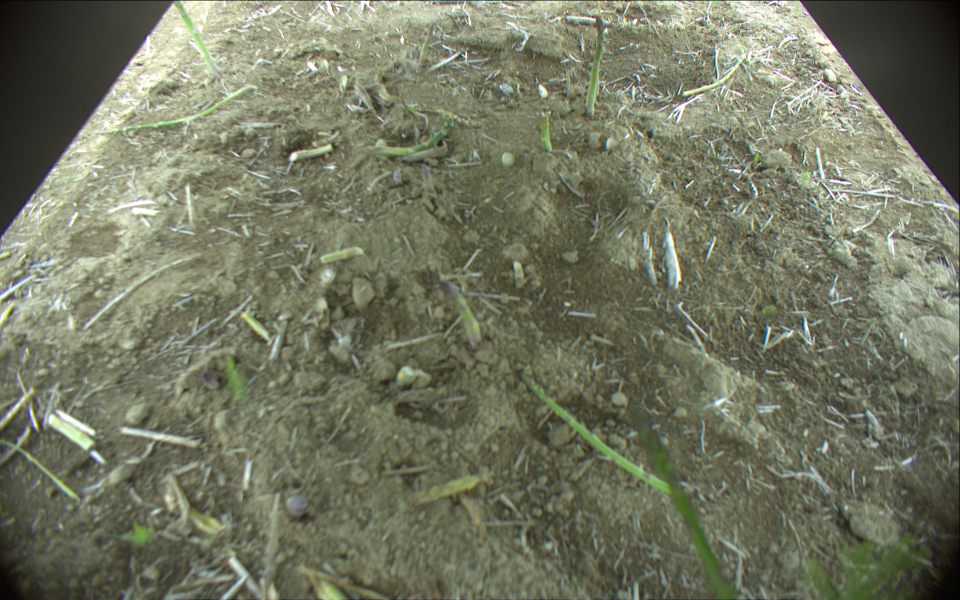aspa: (629, 408, 739, 600), (517, 372, 675, 499), (98, 84, 257, 137), (1, 435, 80, 501), (370, 112, 486, 156), (172, 1, 221, 76), (681, 52, 749, 96), (445, 285, 485, 348), (408, 474, 489, 504), (585, 16, 605, 119), (805, 559, 838, 600), (416, 21, 436, 67), (538, 113, 554, 152)
